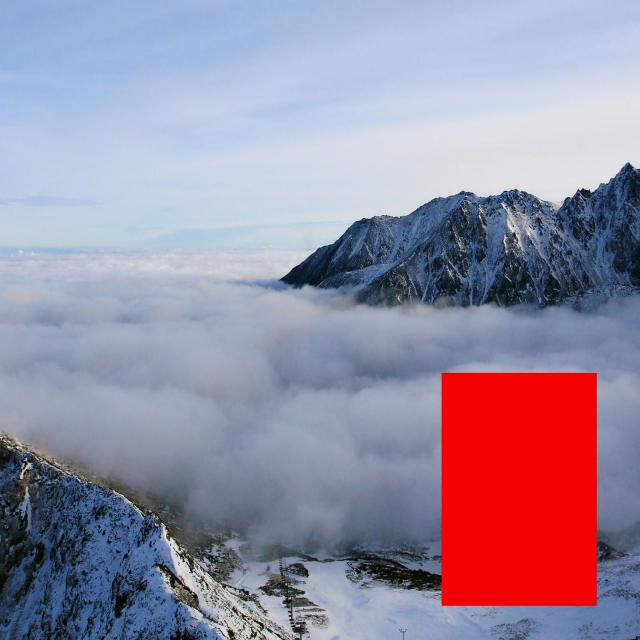RedSquare: (438, 366, 603, 613)
